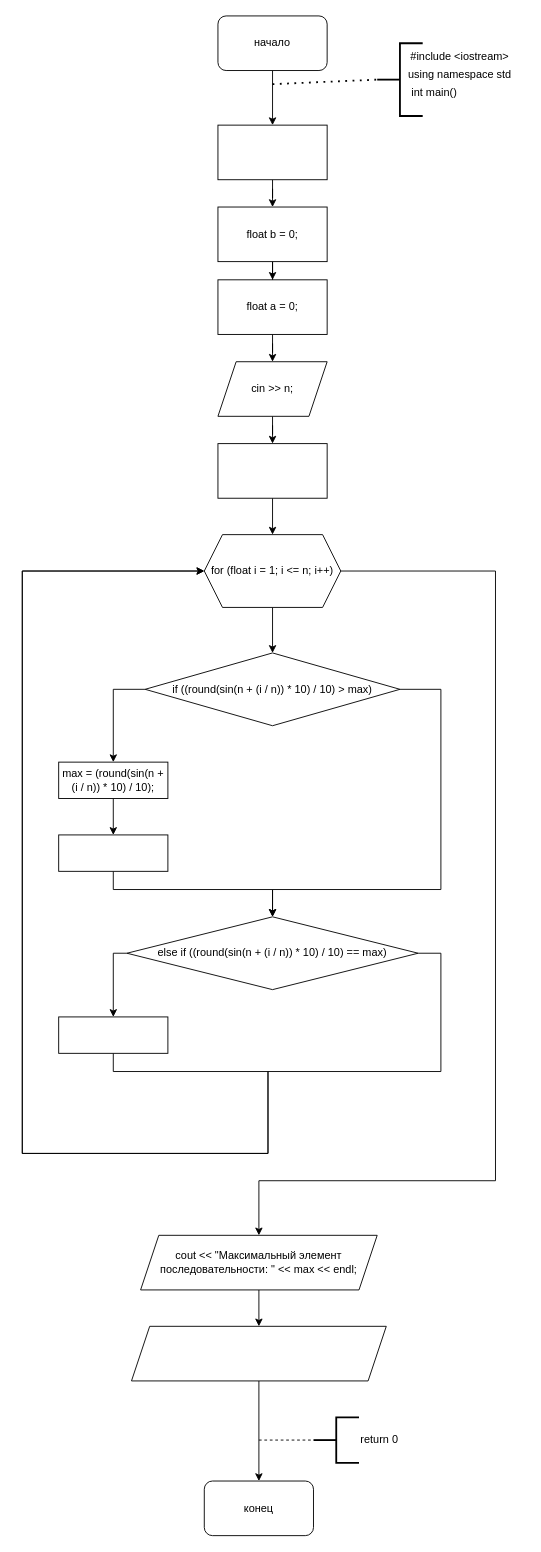
Image size: 541x1552. Some labels were removed from this diagram. The shapes that lost their labels are listed below. From the top down, each one's box as (x1, y1, x2, y2) in pixels, then its label:
(217, 124, 327, 180): float n, max;
(217, 443, 327, 498): max = -1;
(58, 834, 168, 871): a = i;
(58, 1016, 168, 1053): b = i;
(131, 1325, 386, 1381): cout << "Номер первого макс. элемента: " << a << endl << "Последнего: " << b;
